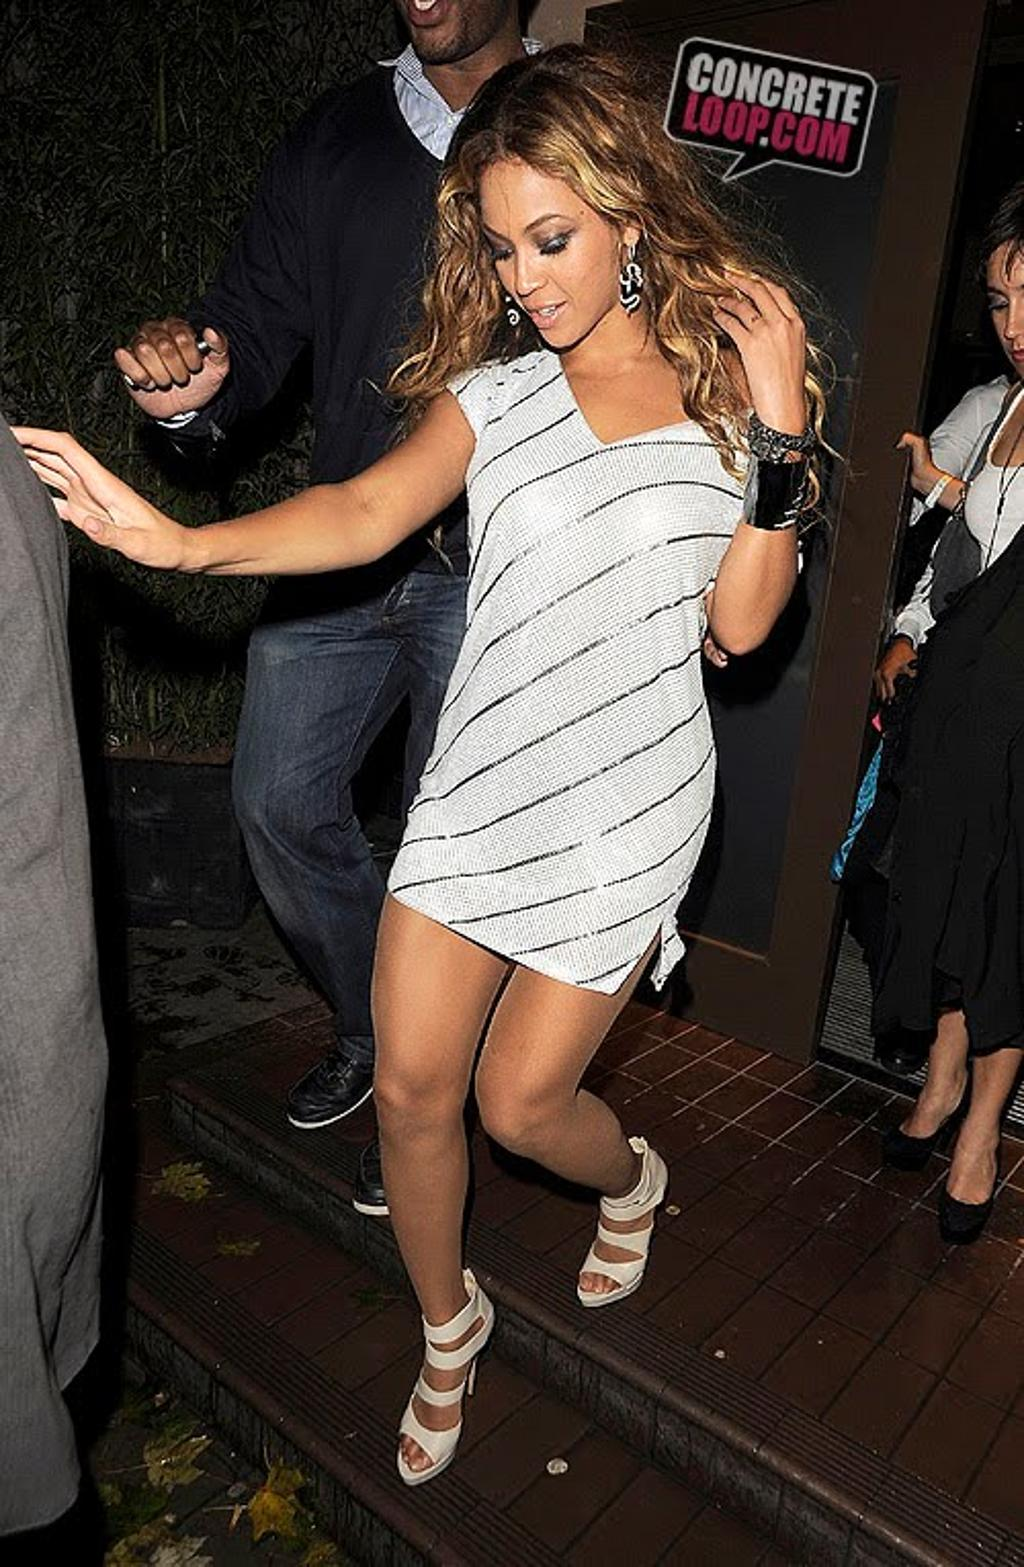face: (477, 150, 611, 346)
